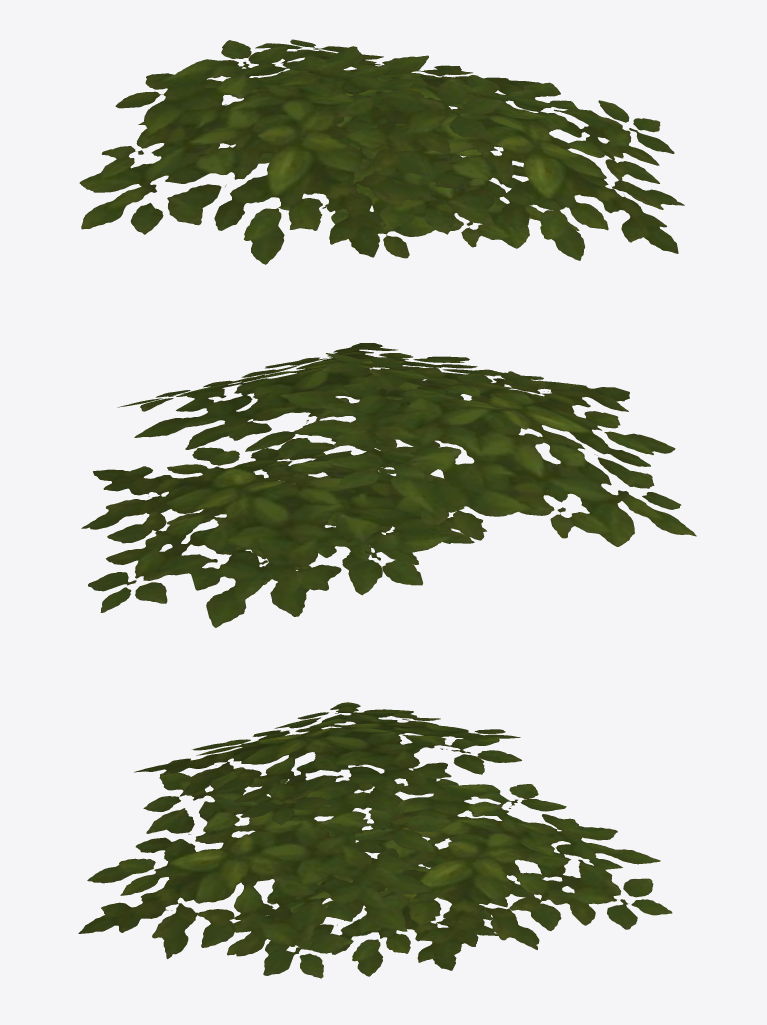
Rendered from leaves_B.fbx.
3 views of the same model, one above another, from view 1: azimuth 30°, elevation 25°; view 2: azimuth 150°, elevation 25°; view 3: azimuth 270°, elevation 25° (orthographic). The views are drawn at different scales.
Visible parts, largest first — view 1: leaves_B; view 2: leaves_B; view 3: leaves_B.
Part boxes in pixels (bbox=[...]): leaves_B: bbox=[79, 39, 684, 264]; leaves_B: bbox=[81, 343, 696, 627]; leaves_B: bbox=[78, 702, 672, 978].
Size of the model in its own units: 9.01 by 1.78 by 9.28.
